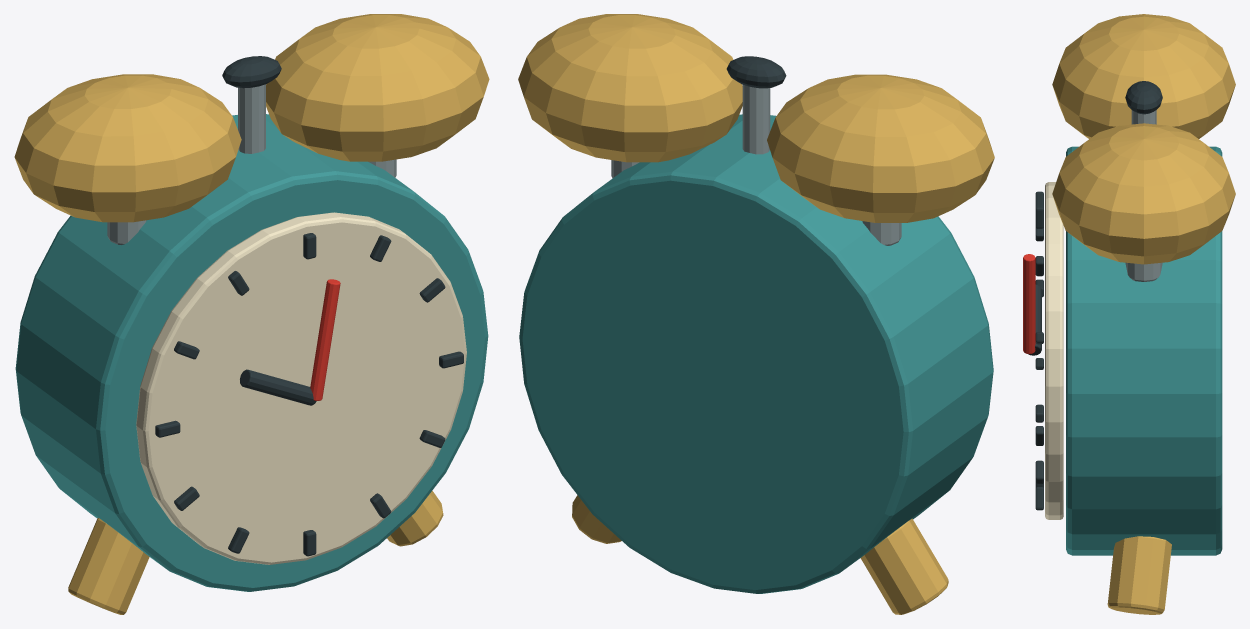
File: P044_alarm_clock.glb
3 renders of one model, left to right at view 1: azimuth 30°, elevation 25°; view 2: azimuth 150°, elevation 25°; view 3: azimuth 270°, elevation 25°, orthographic. The views are drawn at different scales.
Parts seen in each view (by area): view 1: P044_face_002, P044_body_001, P044_bell_018, P044_bell_021, P044_foot_017, P044_striker_023, P044_minute_hand_016, P044_foot_020, P044_striker_tip_024, P044_hour_hand_015, P044_stem_019; view 2: P044_body_001, P044_bell_018, P044_bell_021, P044_foot_017, P044_striker_023, P044_striker_tip_024, P044_foot_020, P044_stem_019; view 3: P044_body_001, P044_bell_021, P044_bell_018, P044_face_002, P044_foot_020, P044_minute_hand_016, P044_striker_tip_024, P044_stem_022, P044_hour_hand_015, P044_striker_023.
Part boxes in pixels (x1=…): P044_face_002: x1=136, y1=212, x2=466, y2=564; P044_body_001: x1=15, y1=114, x2=488, y2=591; P044_bell_018: x1=14, y1=74, x2=241, y2=222; P044_bell_021: x1=266, y1=14, x2=489, y2=161; P044_foot_017: x1=68, y1=518, x2=149, y2=614; P044_striker_023: x1=238, y1=84, x2=265, y2=153; P044_minute_hand_016: x1=310, y1=279, x2=340, y2=400; P044_foot_020: x1=387, y1=490, x2=443, y2=546; P044_striker_tip_024: x1=222, y1=56, x2=281, y2=88; P044_hour_hand_015: x1=240, y1=369, x2=316, y2=405; P044_stem_019: x1=107, y1=220, x2=146, y2=244; P044_body_001: x1=519, y1=114, x2=993, y2=593; P044_bell_018: x1=767, y1=74, x2=994, y2=222; P044_bell_021: x1=518, y1=14, x2=742, y2=162; P044_foot_017: x1=860, y1=518, x2=948, y2=614; P044_striker_023: x1=742, y1=85, x2=770, y2=154; P044_striker_tip_024: x1=726, y1=56, x2=786, y2=88; P044_foot_020: x1=572, y1=495, x2=621, y2=543; P044_stem_019: x1=862, y1=221, x2=901, y2=245; P044_body_001: x1=1066, y1=146, x2=1222, y2=555; P044_bell_021: x1=1052, y1=123, x2=1235, y2=264; P044_bell_018: x1=1052, y1=14, x2=1235, y2=138; P044_face_002: x1=1045, y1=182, x2=1063, y2=519; P044_foot_020: x1=1107, y1=536, x2=1171, y2=614; P044_minute_hand_016: x1=1023, y1=254, x2=1035, y2=354; P044_striker_tip_024: x1=1125, y1=81, x2=1162, y2=114; P044_stem_022: x1=1125, y1=262, x2=1162, y2=281; P044_hour_hand_015: x1=1028, y1=284, x2=1041, y2=355; P044_striker_023: x1=1131, y1=110, x2=1156, y2=124.
Size of the model in its own units: 0.226 by 0.2475 by 0.102.
